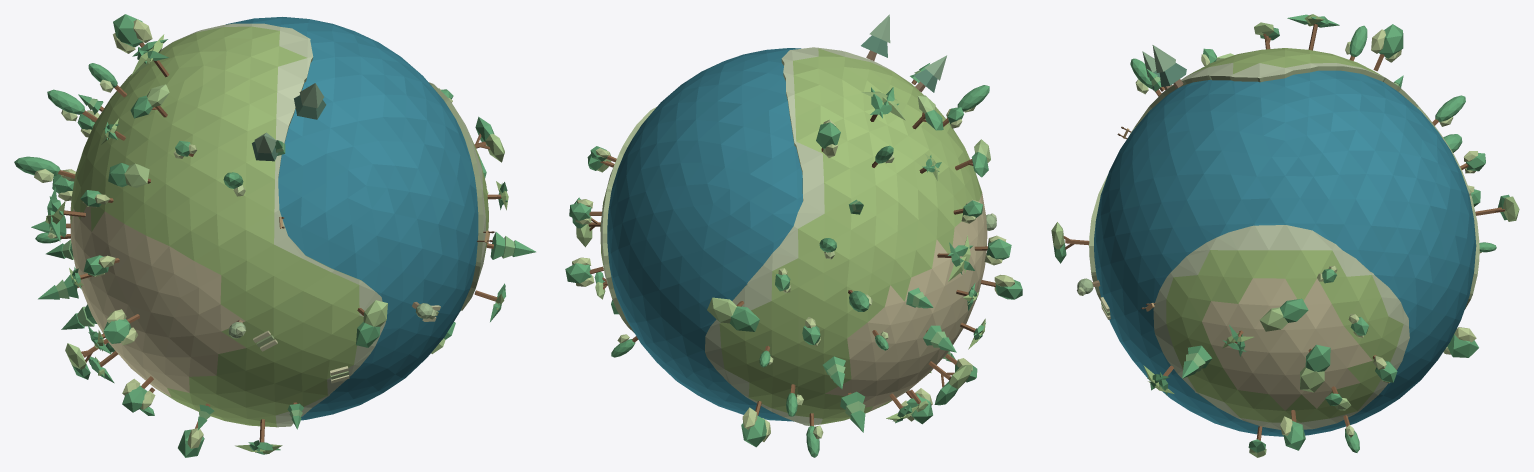
Rendered from earth.glb.
3 views of the same model, side by side, from view 1: azimuth 30°, elevation 25°; view 2: azimuth 150°, elevation 25°; view 3: azimuth 270°, elevation 25° (orthographic). The views are drawn at different scales.
Parts seen in each view (by area): view 1: Terrain • modeled surfaces, Structures • modeled surfaces; view 2: Terrain • modeled surfaces, Structures • modeled surfaces; view 3: Terrain • modeled surfaces, Structures • modeled surfaces.
Boxes of the visible parts, left/top/right/bottom form: Terrain • modeled surfaces: left=70, top=17, right=488, bottom=427; Structures • modeled surfaces: left=14, top=14, right=535, bottom=457; Terrain • modeled surfaces: left=600, top=47, right=987, bottom=425; Structures • modeled surfaces: left=565, top=14, right=1022, bottom=457; Terrain • modeled surfaces: left=1089, top=48, right=1479, bottom=436; Structures • modeled surfaces: left=1051, top=14, right=1519, bottom=457.
Size of the model in its own units: 2.44 by 2.09 by 2.41.
